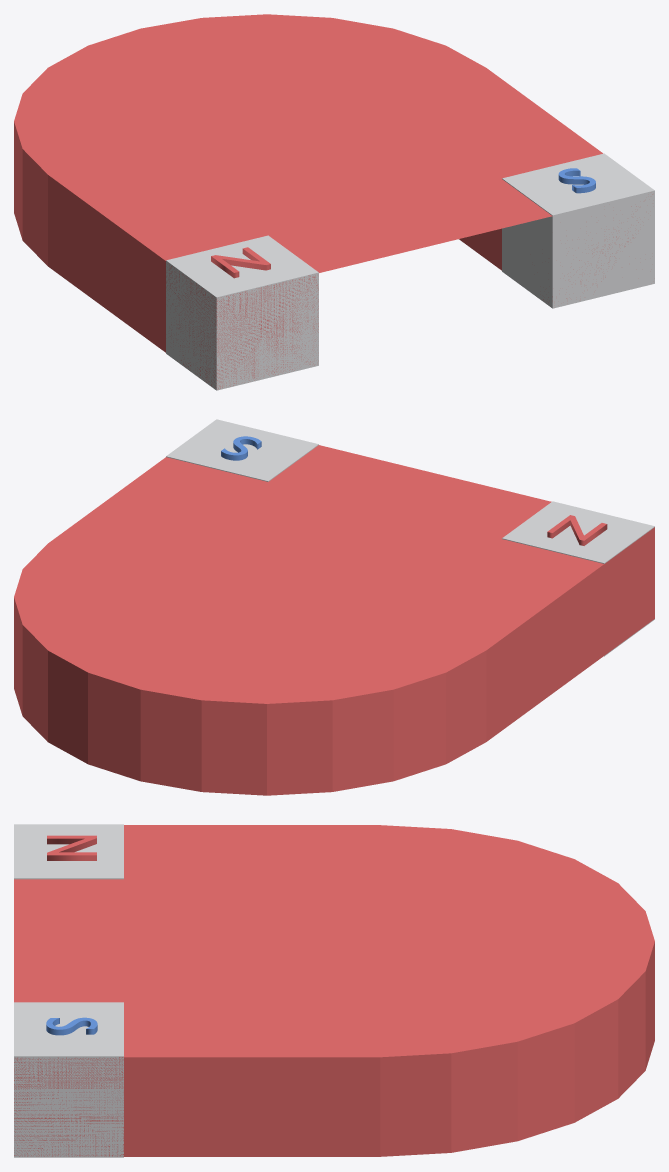
The model's file is horseshoe_magnet.glb.
3 renders of one model, top to bottom at view 1: azimuth 30°, elevation 25°; view 2: azimuth 150°, elevation 25°; view 3: azimuth 270°, elevation 25°, orthographic. The views are drawn at different scales.
Parts seen in each view (by area): view 1: magnet_body, magnet_tip0, magnet_tip1, magnet_N, magnet_S; view 2: magnet_body, magnet_tip1, magnet_tip0, magnet_N, magnet_S; view 3: magnet_body, magnet_tip1, magnet_tip0, magnet_N, magnet_S.
Boxes of the visible parts, x1,y1,x2,y2 form: magnet_body: [14, 14, 652, 389]; magnet_tip0: [166, 235, 318, 390]; magnet_tip1: [502, 153, 654, 308]; magnet_N: [211, 247, 270, 278]; magnet_S: [558, 168, 595, 193]; magnet_body: [14, 445, 654, 795]; magnet_tip1: [166, 419, 318, 481]; magnet_tip0: [502, 501, 654, 656]; magnet_N: [547, 515, 607, 545]; magnet_S: [221, 436, 261, 460]; magnet_body: [14, 825, 654, 1156]; magnet_tip1: [14, 1002, 123, 1157]; magnet_tip0: [14, 824, 123, 879]; magnet_N: [47, 835, 96, 860]; magnet_S: [46, 1017, 97, 1035].
Bounding box in the file's own units: 0.06 × 0.0129 × 0.07.
